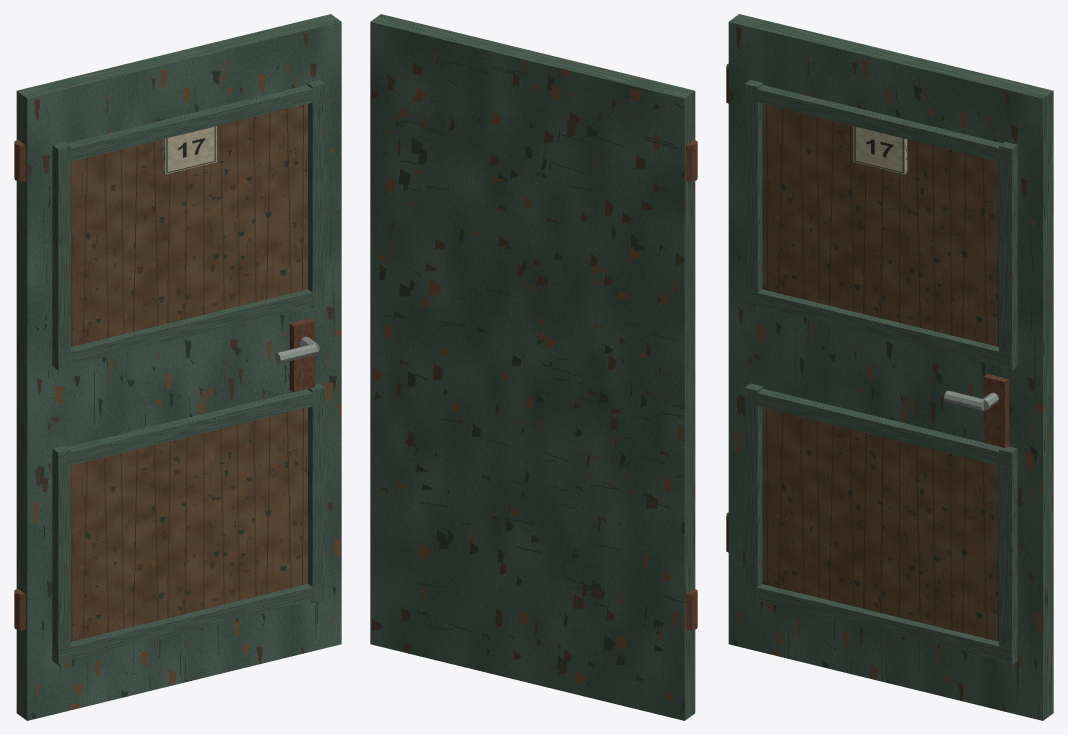
Rendered from Door_17.glb.
The picture shows the model from 3 angles, left to right: view 1: azimuth 30°, elevation 25°; view 2: azimuth 150°, elevation 25°; view 3: azimuth 330°, elevation 25°; orthographic projection.
Parts seen in each view (by area): view 1: Door_17; view 2: Door_17; view 3: Door_17.
Boxes of the visible parts, x1,y1,x2,y2 form: Door_17: (14, 14, 341, 720); Door_17: (370, 14, 697, 720); Door_17: (726, 14, 1053, 720).
Size of the model in its own units: 1.12 by 2.08 by 0.1805.
Materials: 5 (5 with a texture image).
